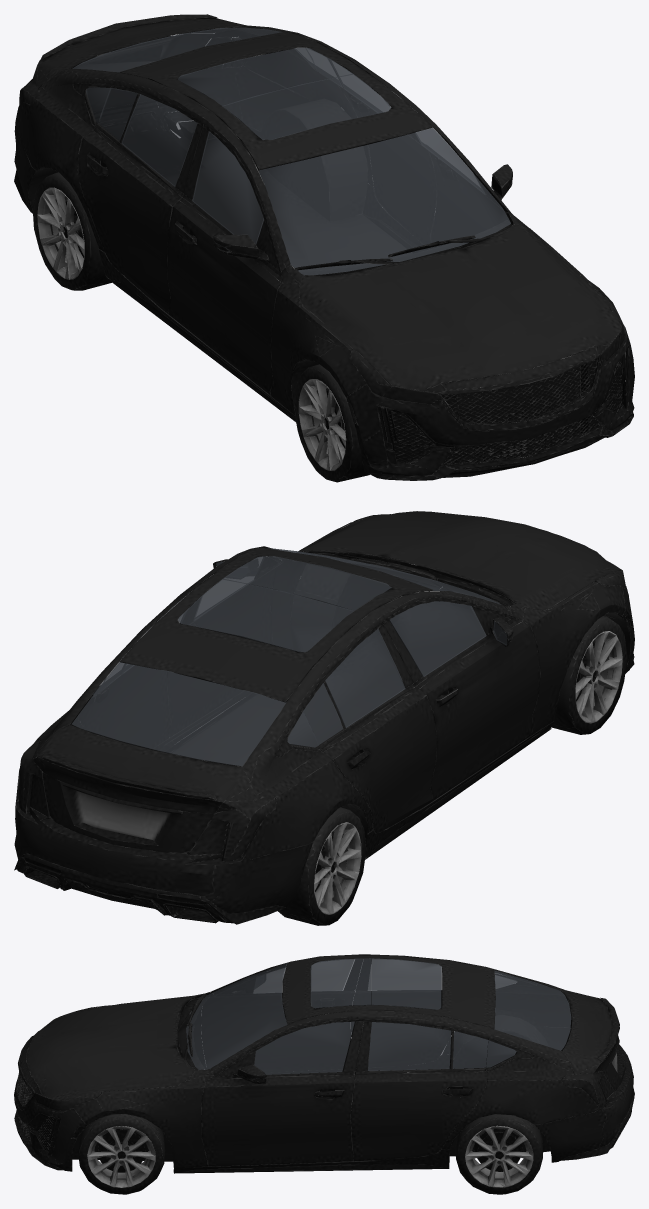
The model's file is car6.glb.
3 renders of one model, top to bottom at view 1: azimuth 30°, elevation 25°; view 2: azimuth 150°, elevation 25°; view 3: azimuth 270°, elevation 25°, orthographic. The views are drawn at different scales.
Visible parts, largest first — view 1: SM_Car; view 2: SM_Car; view 3: SM_Car.
Part boxes in pixels (x1=…): SM_Car: x1=14, y1=14, x2=634, y2=482; SM_Car: x1=14, y1=511, x2=634, y2=925; SM_Car: x1=14, y1=954, x2=634, y2=1194.
Bounding box in the file's own units: 1.98 × 1.49 × 4.98.
Materials: 2 (1 with a texture image).
